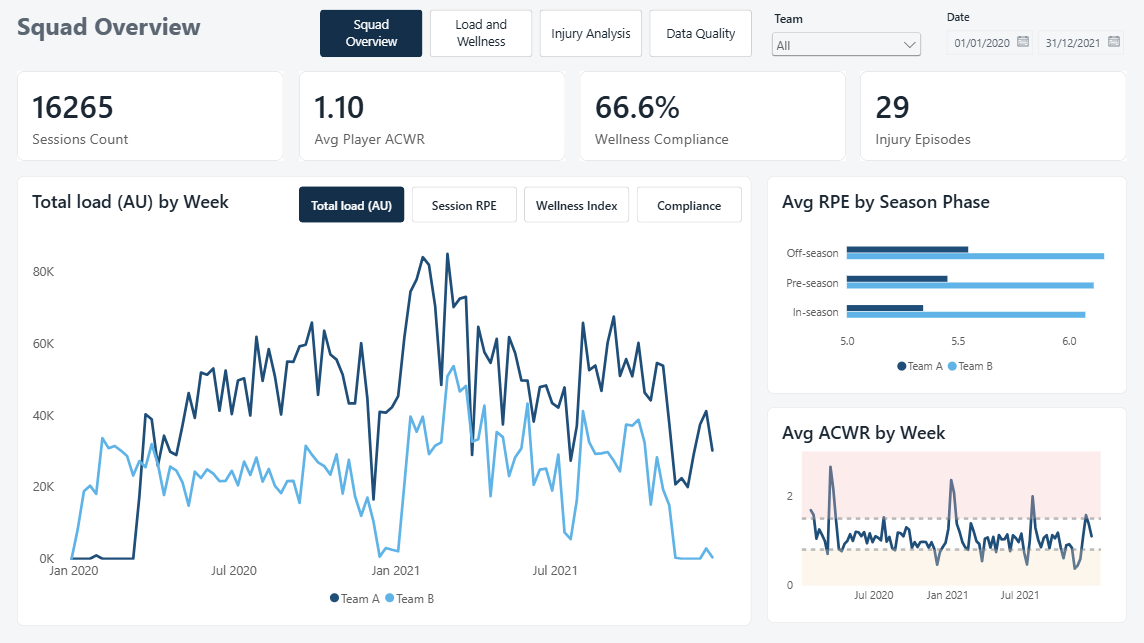

The dashboard page shown, as its layout file describes it:
{"tool":"powerbi","page":{"name":"Squad Overview","canvas":[1280,720],"ordinal":0},"visuals":[{"type":"lineChart","title":"Avg ACWR by Week","fields":{"Category":["Date.WeekStart"],"Y":["_Measure.Avg Player ACWR"]},"box":[856,454,400,240],"z":2000},{"type":"clusteredBarChart","title":"Avg RPE by Season Phase","fields":{"Category":["Date.Phase"],"Series":["Players.Team"],"Y":["_Measure.Avg Session RPE"]},"box":[856,196,400,242],"z":2250},{"type":"lineChart","fields":{"Category":["Date.WeekStart"],"Series":["Players.Team"],"Y":["_Measure.Total Load"]},"box":[24,196,816,500],"z":2500},{"type":"advancedSlicerVisual","title":"Trend Metric","fields":{"Values":["Trend Metric.Trend Metric"]},"box":[336,208,496,40],"z":3000},{"type":"cardVisual","title":"Injury Episodes KPI","fields":{"Data":["_Measure.Injury Episodes"]},"box":[960,80,296,100],"z":4000},{"type":"cardVisual","title":"Wellness Compliance KPI","fields":{"Data":["_Measure.Wellness Compliance"]},"box":[648,80,296,100],"z":5000},{"type":"cardVisual","title":"Avg Player ACWR KPI","fields":{"Data":["_Measure.Avg Player ACWR"]},"box":[336,80,296,100],"z":6000},{"type":"cardVisual","title":"Sessions Count KPI","fields":{"Data":["_Measure.Sessions Count"]},"box":[24,80,296,100],"z":7000},{"type":"slicer","title":"Date Slicer","fields":{"Values":["Date.Date"]},"box":[1048,12,208,52],"z":8000},{"type":"slicer","title":"Team Slicer","fields":{"Values":["Players.Team"]},"box":[856,12,176,52],"z":9000},{"type":"pageNavigator","box":[360,12,480,53],"z":10000},{"type":"textbox","title":"Title","box":[24,12,320,52],"z":11000}]}

Visuals, with their boxes in screenshot pixels (x1, y1, x2, y2), scaled from the page's 1280x720 canvas onto the 1144x643 screenshot:
"Avg ACWR by Week" lineChart: 765:405:1123:620
"Avg RPE by Season Phase" clusteredBarChart: 765:175:1123:391
lineChart - Date.WeekStart x Players.Team: 21:175:751:622
"Trend Metric" advancedSlicerVisual: 300:186:744:221
"Injury Episodes KPI" cardVisual: 858:71:1123:161
"Wellness Compliance KPI" cardVisual: 579:71:844:161
"Avg Player ACWR KPI" cardVisual: 300:71:565:161
"Sessions Count KPI" cardVisual: 21:71:286:161
"Date Slicer" slicer: 937:11:1123:57
"Team Slicer" slicer: 765:11:922:57
pageNavigator: 322:11:751:58
"Title" textbox: 21:11:307:57
